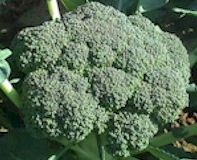broccoli: (10, 1, 192, 159)
